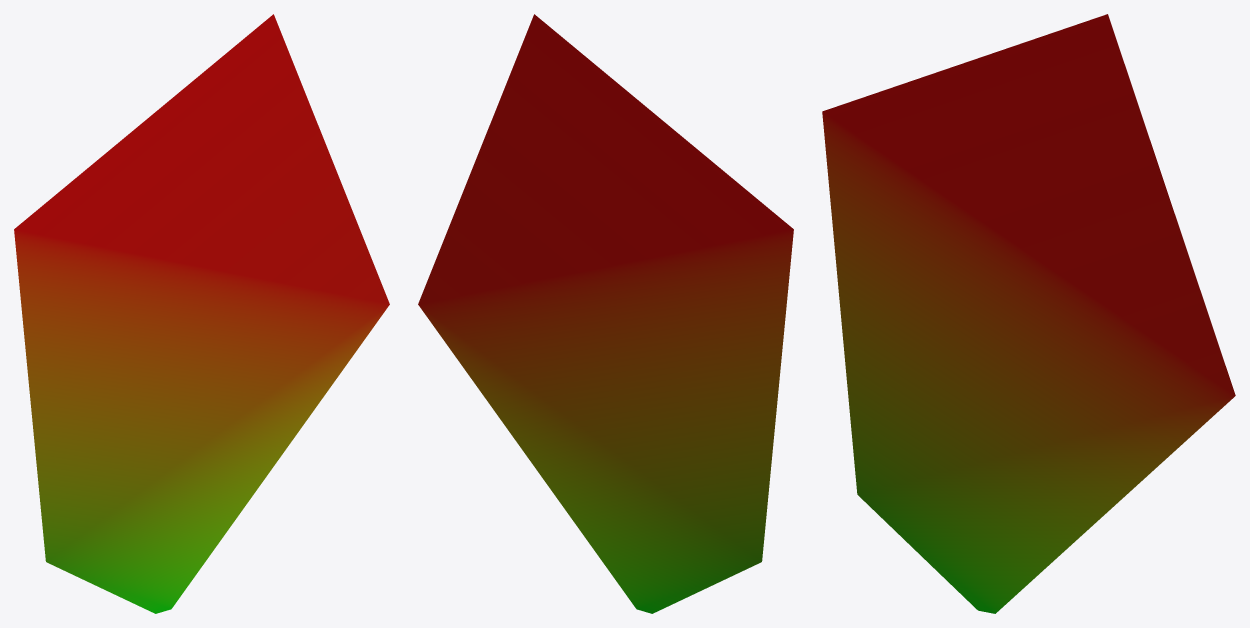
The model's file is Great Brome_LOD5_Var6_tjugaikia.fbx.
3 views of the same model, side by side, from view 1: azimuth 30°, elevation 25°; view 2: azimuth 150°, elevation 25°; view 3: azimuth 330°, elevation 25° (orthographic). The views are drawn at different scales.
Parts seen in each view (by area): view 1: _7af8_Var6_LOD5; view 2: _7af8_Var6_LOD5; view 3: _7af8_Var6_LOD5.
Boxes of the visible parts, left/top/right/bottom form: _7af8_Var6_LOD5: left=14, top=14, right=389, bottom=613; _7af8_Var6_LOD5: left=418, top=14, right=793, bottom=613; _7af8_Var6_LOD5: left=822, top=14, right=1235, bottom=613.
Bounding box in the file's own units: 44.71 × 64.91 × 9.54e-07.
